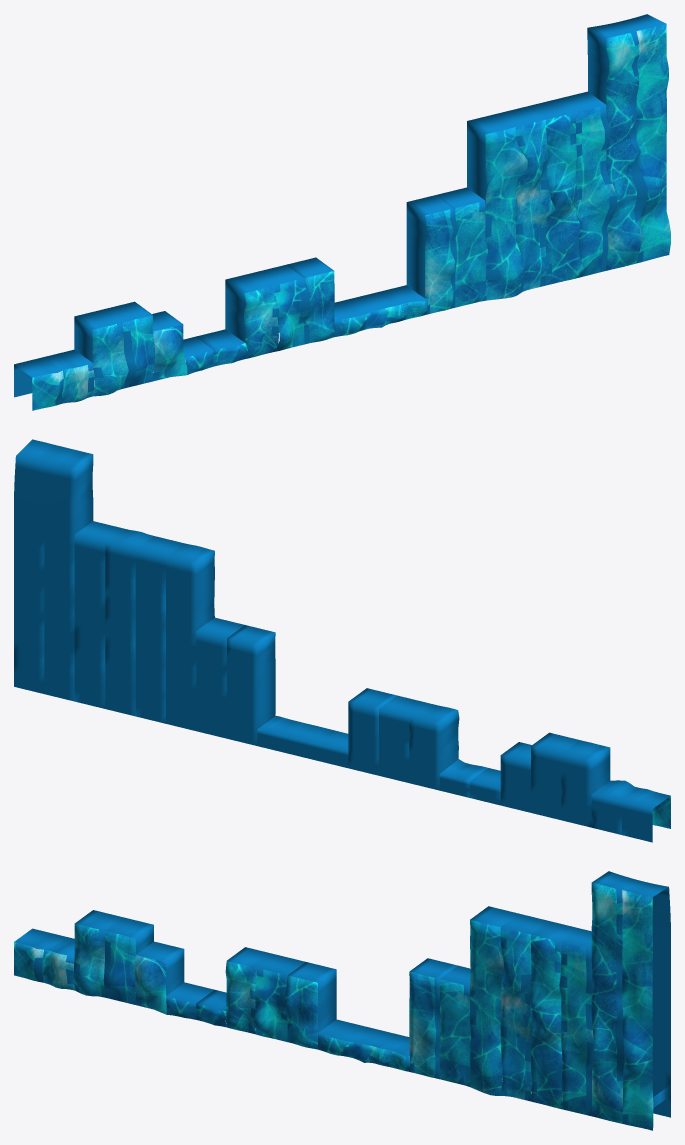
File: nivel cueva plataforma.fbx
The picture shows the model from 3 angles, top to bottom: view 1: azimuth 30°, elevation 25°; view 2: azimuth 150°, elevation 25°; view 3: azimuth 330°, elevation 25°; orthographic projection.
Parts seen in each view (by area): view 1: Circle.001; view 2: Circle.001; view 3: Circle.001.
Part boxes in pixels (x1,y1,x2,y2): Circle.001: (14,14,670,410); Circle.001: (14,439,670,842); Circle.001: (14,871,670,1130).
Size of the model in its own units: 2008 by 703 by 132.
1 material, 1 textured.
